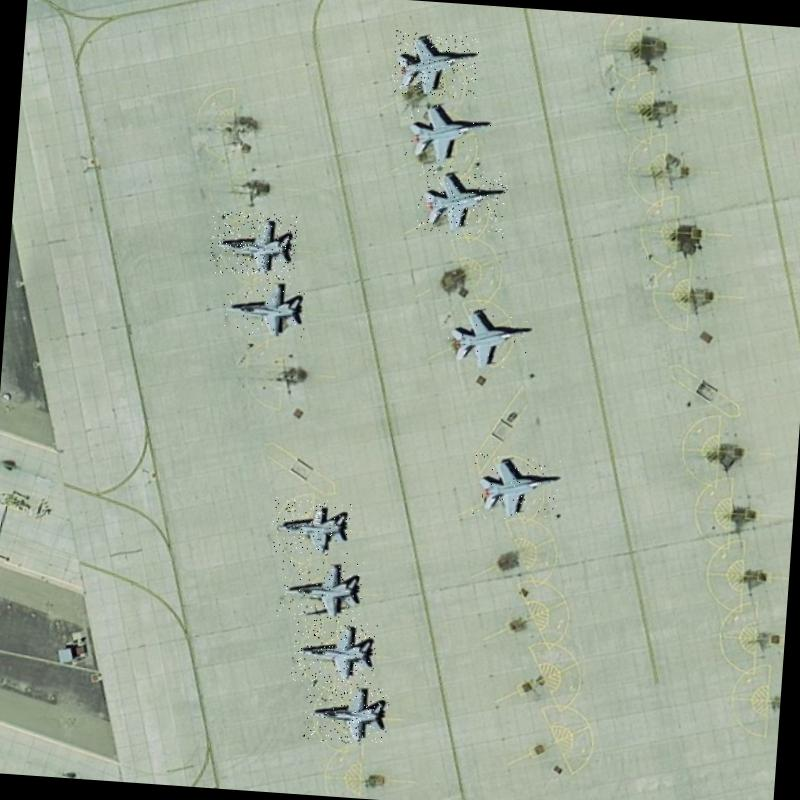A16: (416, 164, 508, 238), (471, 452, 563, 524), (208, 210, 297, 280), (443, 305, 534, 373), (390, 30, 480, 98), (402, 98, 494, 164), (290, 618, 378, 686), (276, 556, 364, 623), (302, 680, 390, 746), (221, 274, 307, 338), (269, 496, 353, 556)
